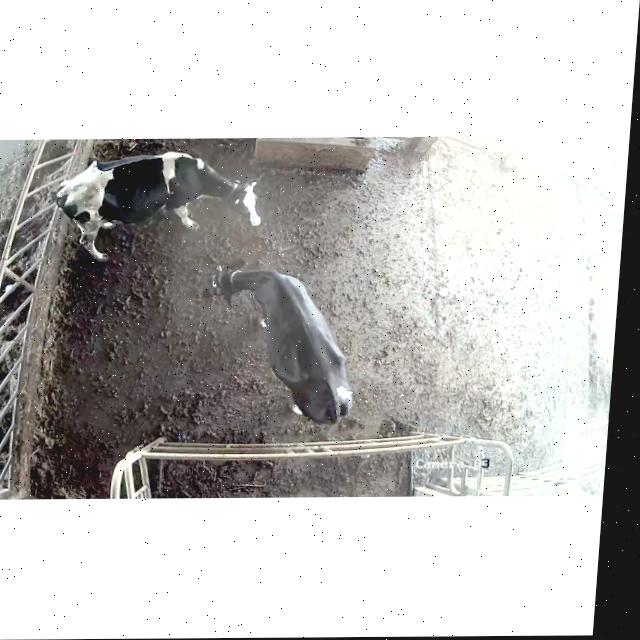stand: (176, 247, 371, 433), (43, 142, 291, 265)
